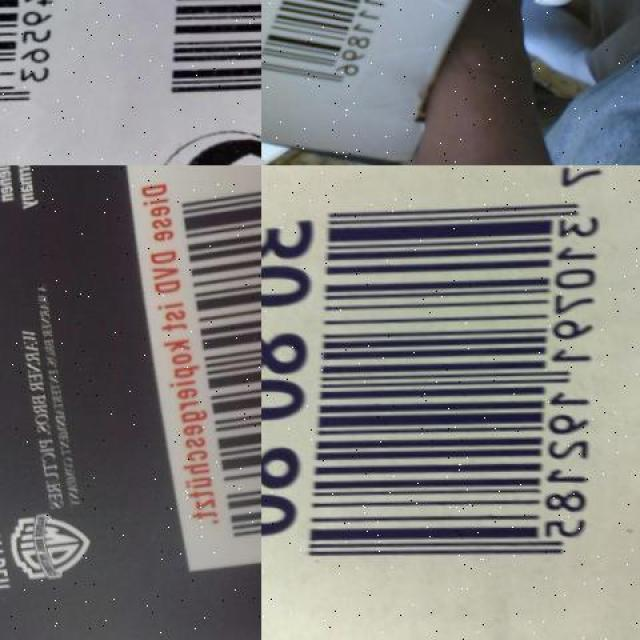Barcode: (304, 166, 632, 590), (106, 166, 262, 574), (261, 0, 447, 108), (146, 0, 262, 115), (0, 0, 85, 134)
